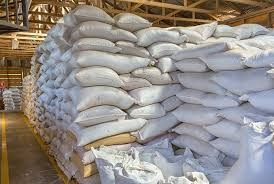sack: (0, 111, 69, 184), (83, 144, 163, 182), (77, 118, 146, 151), (76, 51, 150, 74), (75, 86, 133, 113), (213, 69, 272, 95), (136, 110, 180, 144), (175, 88, 241, 109), (75, 21, 136, 43), (176, 71, 228, 96), (128, 96, 184, 119), (129, 84, 182, 107), (172, 135, 221, 159), (75, 105, 127, 127), (74, 66, 124, 88), (172, 41, 227, 61), (173, 104, 222, 126), (220, 105, 271, 125), (137, 27, 183, 46), (204, 51, 245, 72), (177, 23, 218, 44), (173, 123, 215, 143), (205, 120, 241, 142), (131, 67, 174, 85), (209, 137, 241, 161), (247, 88, 274, 116), (242, 113, 274, 136), (72, 38, 116, 54), (197, 93, 240, 109), (240, 34, 274, 54), (176, 89, 208, 109), (129, 102, 166, 119), (115, 13, 152, 30), (233, 23, 270, 40), (244, 49, 274, 69), (115, 41, 150, 58), (155, 95, 183, 116), (148, 42, 182, 59), (120, 73, 151, 90), (173, 58, 208, 73), (213, 25, 237, 38), (157, 56, 175, 72)
